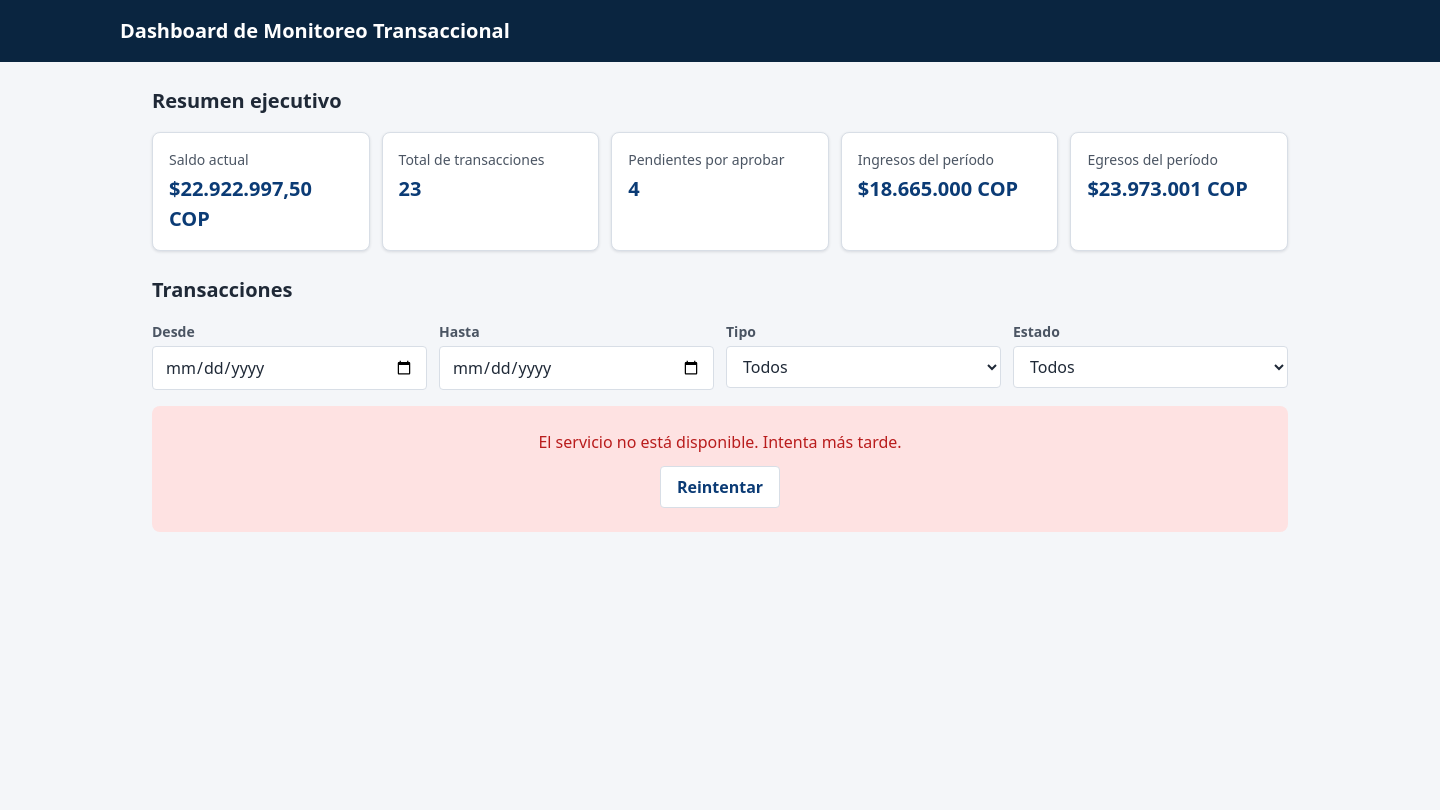
Test: DashboardPage (integración) › un error 500 en el listado muestra el mensaje mientras el resumen sigue visible, y Reintentar recupera
Expected: the message shows "El servicio no está disponible. Intenta más tarde.", x1=538 y1=431 x2=902 y2=453
Expected: the text "Saldo actual" is shown, x1=169 y1=150 x2=249 y2=169
Click the button "Reintentar" at (720, 487), box x1=660 y1=466 x2=780 y2=508
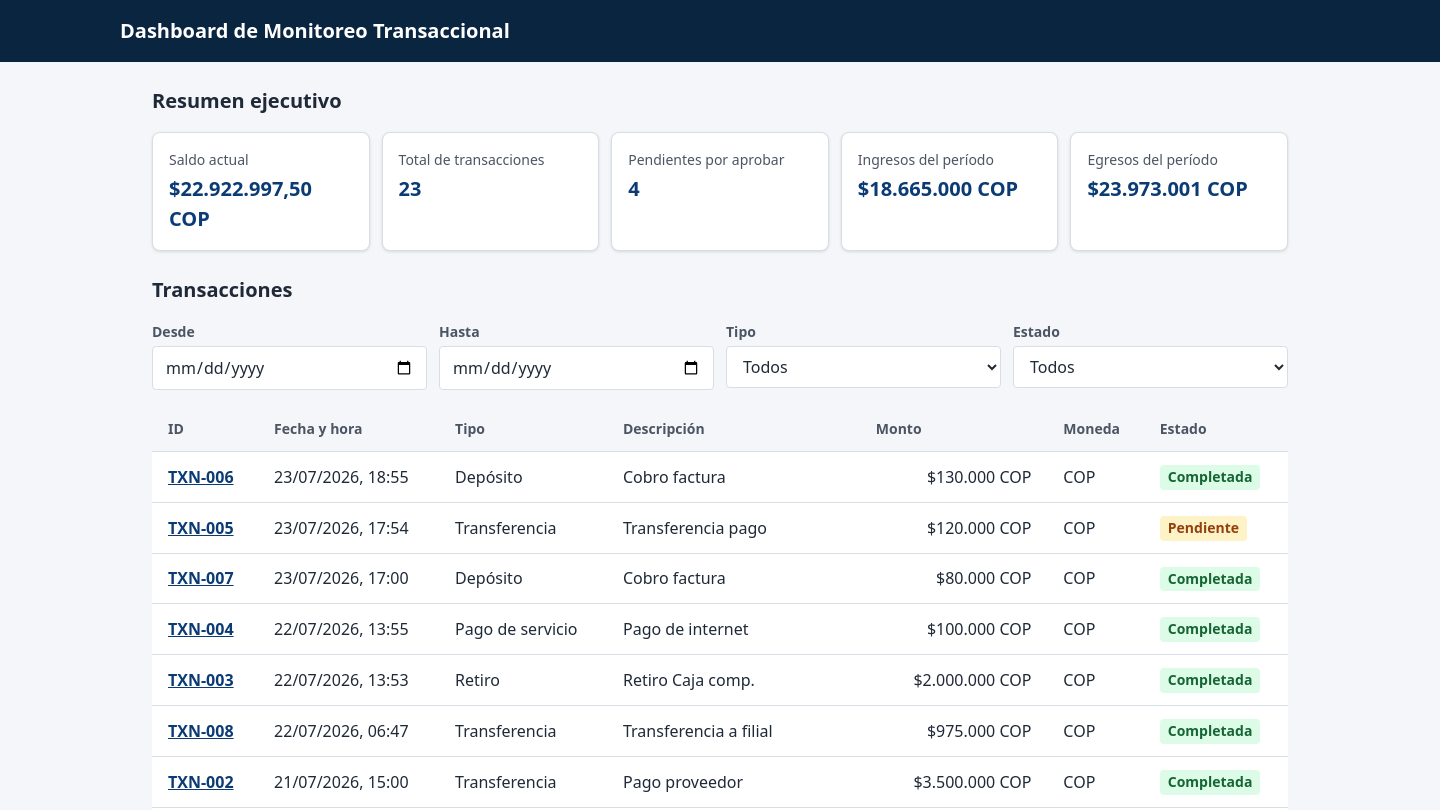
Result: the message "El servicio no está disponible. Intenta más tarde. Reintentar" is gone
